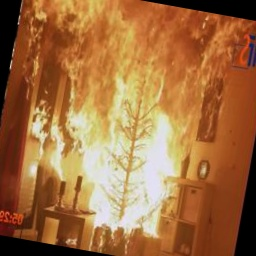fire: (0, 0, 256, 251)
